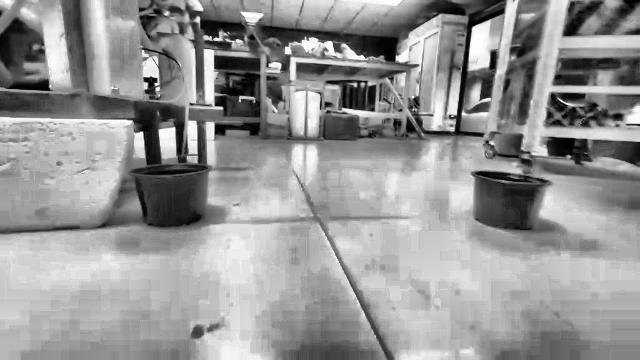pot: (131, 163, 210, 227), (472, 171, 552, 229)
